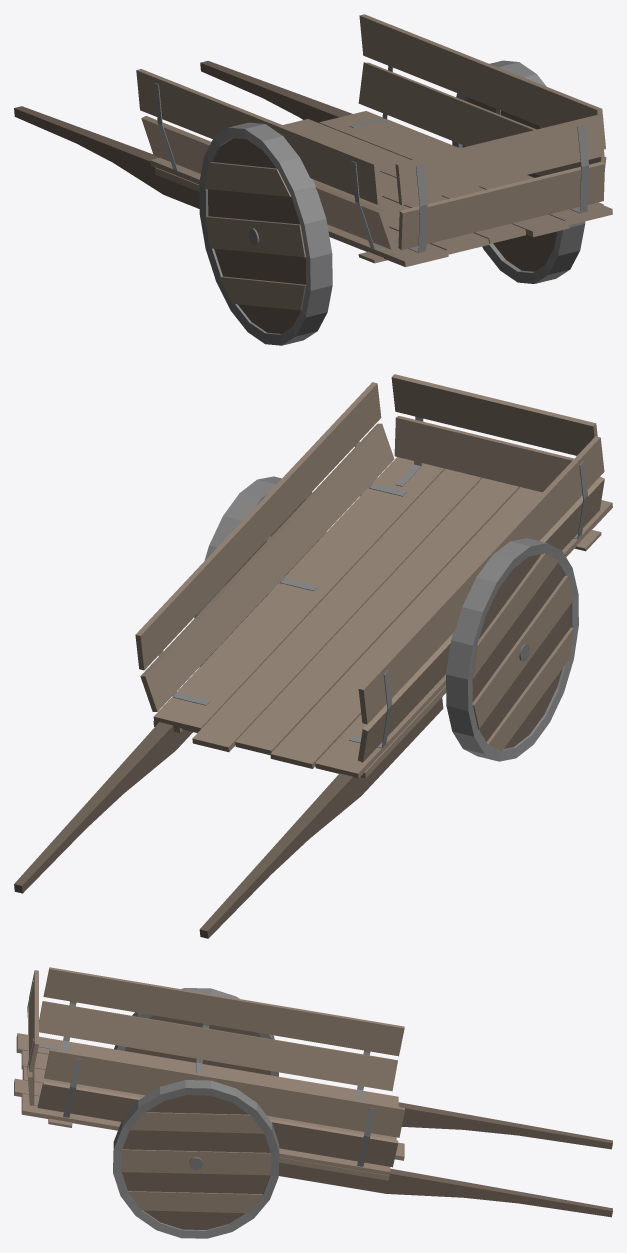
File: HandCart_02.gltf
3 renders of one model, top to bottom at view 1: azimuth 30°, elevation 25°; view 2: azimuth 150°, elevation 25°; view 3: azimuth 270°, elevation 25°, orthographic. The views are drawn at different scales.
Parts seen in each view (by area): view 1: SM_StylizedFarm_HandCart_02; view 2: SM_StylizedFarm_HandCart_02; view 3: SM_StylizedFarm_HandCart_02.
Part boxes in pixels (bbox=[...]): SM_StylizedFarm_HandCart_02: bbox=[14, 14, 612, 345]; SM_StylizedFarm_HandCart_02: bbox=[14, 374, 612, 938]; SM_StylizedFarm_HandCart_02: bbox=[14, 967, 612, 1238].
Bounding box in the file's own units: 1.32 × 1.1 × 3.29.
1 material, 1 textured.
